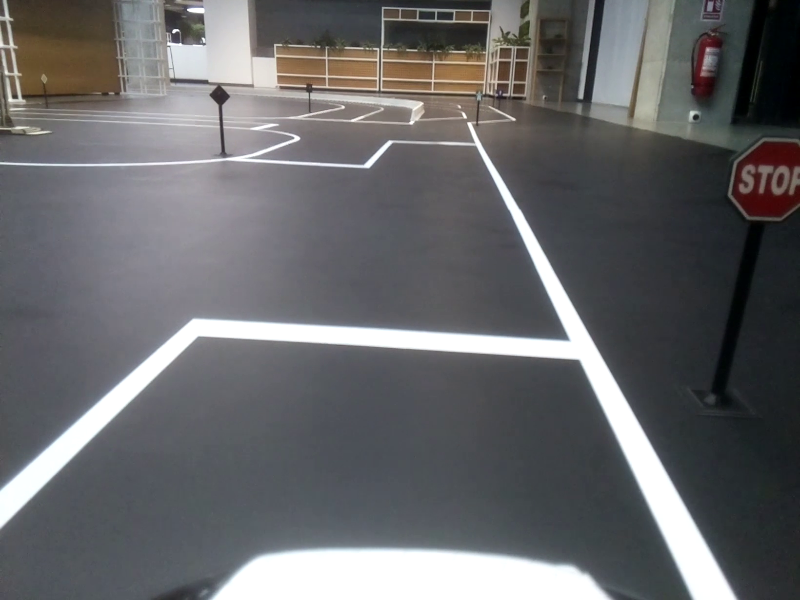stop: (723, 136, 800, 223)
